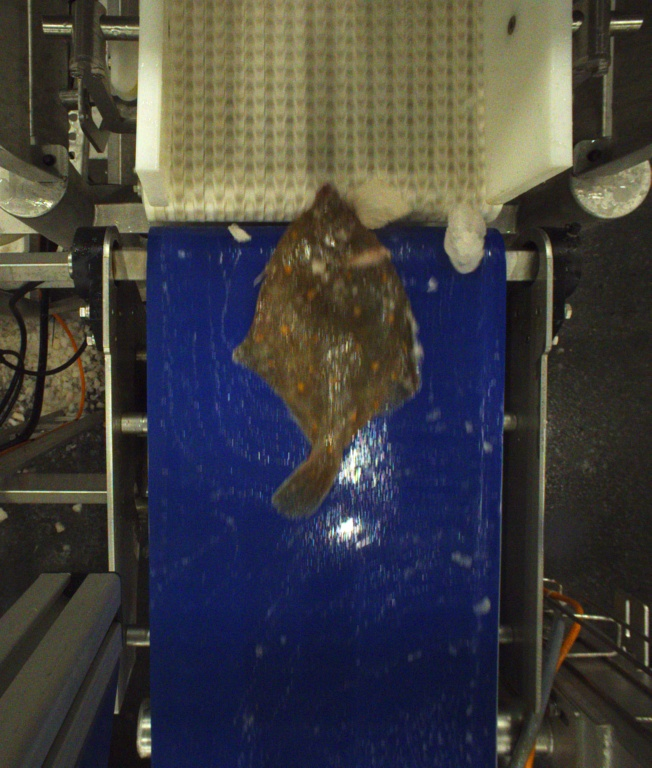PLE: (234, 182, 421, 514)
